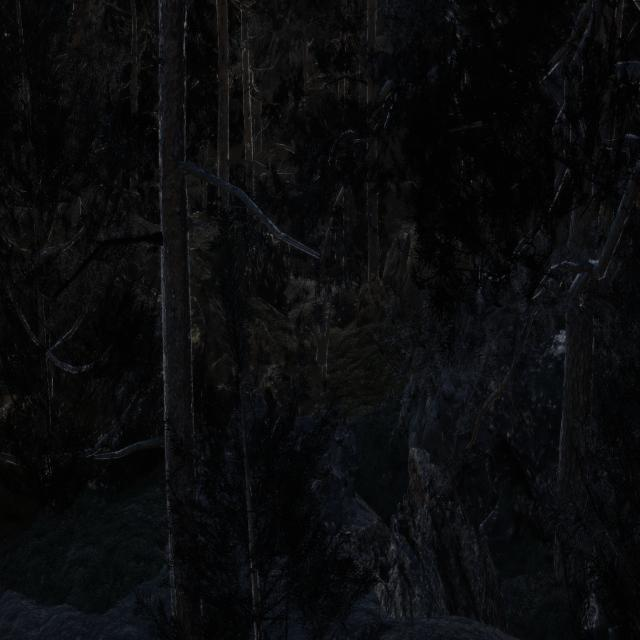Human: (298, 298, 339, 408)
